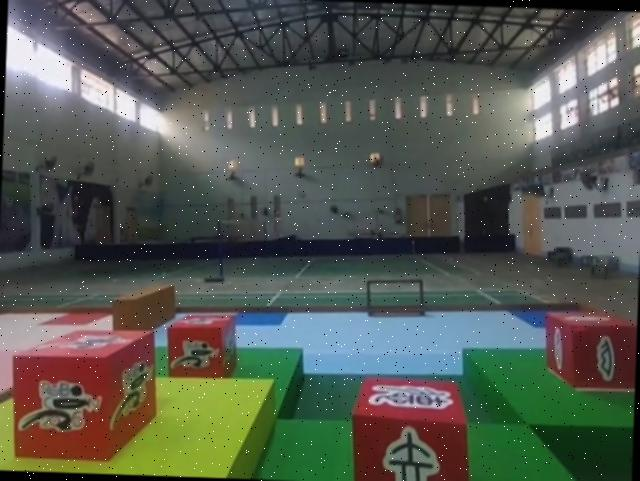R1: (6, 323, 163, 466), (162, 310, 242, 383)
R2 Fake: (344, 371, 474, 481)
R2 Real: (541, 307, 638, 391)
